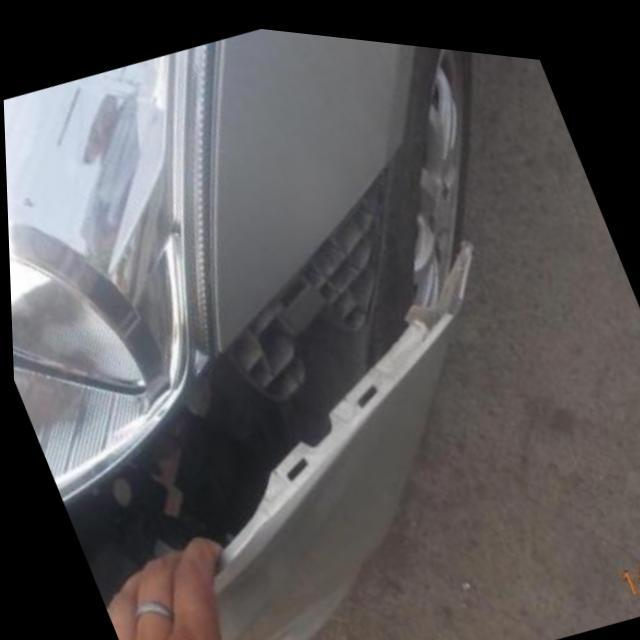dislocated part: (60, 139, 467, 602)
